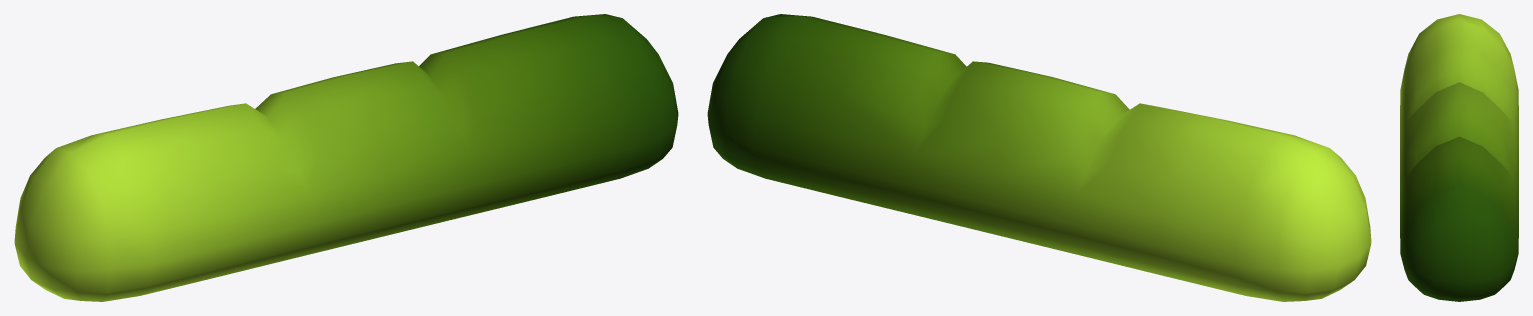
File: candy_glass_25.fbx
3 renders of one model, left to right at view 1: azimuth 30°, elevation 25°; view 2: azimuth 150°, elevation 25°; view 3: azimuth 270°, elevation 25°, orthographic. The views are drawn at different scales.
Visible parts, largest first — view 1: c_g_25; view 2: c_g_25; view 3: c_g_25.
Boxes of the visible parts, <box> form: c_g_25: <box>14,14,678,301</box>; c_g_25: <box>707,14,1371,301</box>; c_g_25: <box>1400,14,1518,301</box>.
Bounding box in the file's own units: 203 × 45.62 × 46.77.
